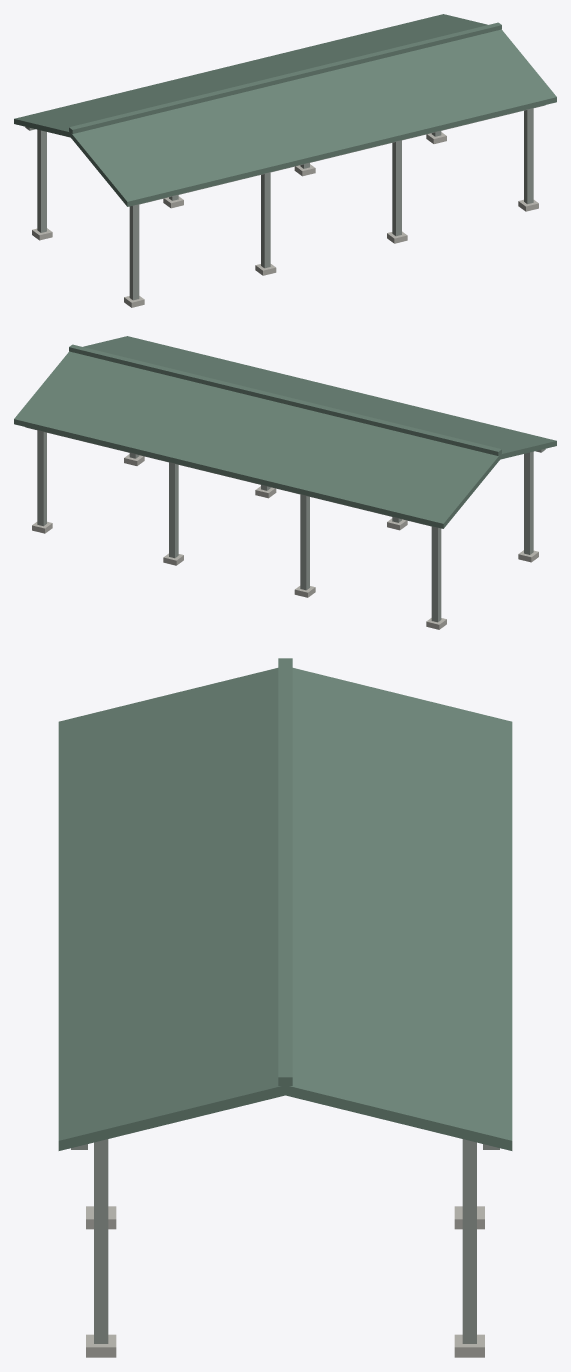
3 views of the same model, one above another, from view 1: azimuth 30°, elevation 25°; view 2: azimuth 150°, elevation 25°; view 3: azimuth 270°, elevation 25° (orthographic). The views are drawn at different scales.
Visible parts, largest first — view 1: osm533336978__roof, osm533336978__steel, osm533336978__base; view 2: osm533336978__roof, osm533336978__steel, osm533336978__base; view 3: osm533336978__roof, osm533336978__steel, osm533336978__base.
Boxes of the visible parts, bbox=[...] form: osm533336978__roof: bbox=[14, 14, 556, 206]; osm533336978__steel: bbox=[25, 105, 545, 300]; osm533336978__base: bbox=[32, 132, 538, 307]; osm533336978__roof: bbox=[14, 336, 556, 528]; osm533336978__steel: bbox=[25, 427, 545, 622]; osm533336978__base: bbox=[32, 454, 538, 629]; osm533336978__roof: bbox=[58, 658, 512, 1150]; osm533336978__steel: bbox=[71, 1139, 499, 1343]; osm533336978__base: bbox=[86, 1206, 484, 1357].
Size of the model in its own units: 10.47 by 3.39 by 4.79.
